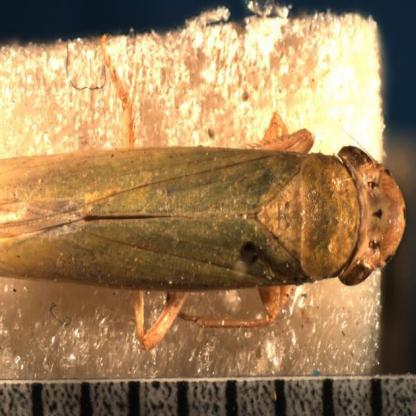Green-Leafhopper: (2, 113, 407, 348)
